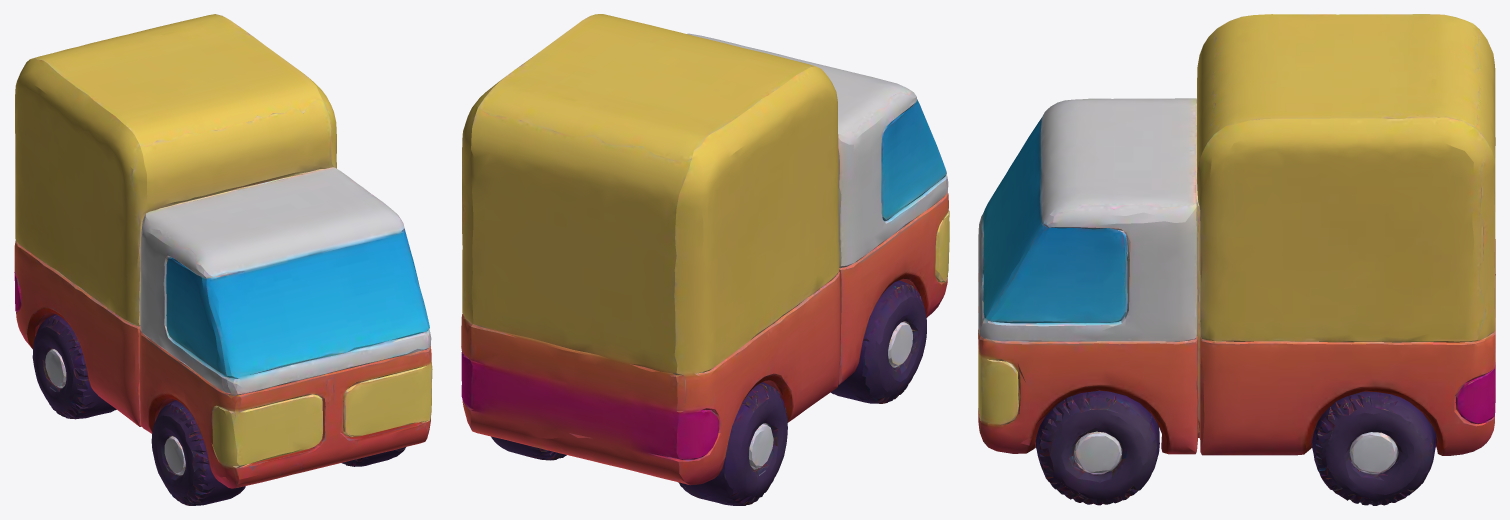
File: truck.glb
3 renders of one model, left to right at view 1: azimuth 30°, elevation 25°; view 2: azimuth 150°, elevation 25°; view 3: azimuth 270°, elevation 25°, orthographic. The views are drawn at different scales.
Parts seen in each view (by area): view 1: Mesh; view 2: Mesh; view 3: Mesh.
Part boxes in pixels (x1,y1,x2,y2): Mesh: [14, 14, 432, 505]; Mesh: [461, 14, 949, 505]; Mesh: [978, 14, 1495, 505].
Bounding box in the file's own units: 0.577 × 0.8199 × 1.
1 material, 1 textured.
